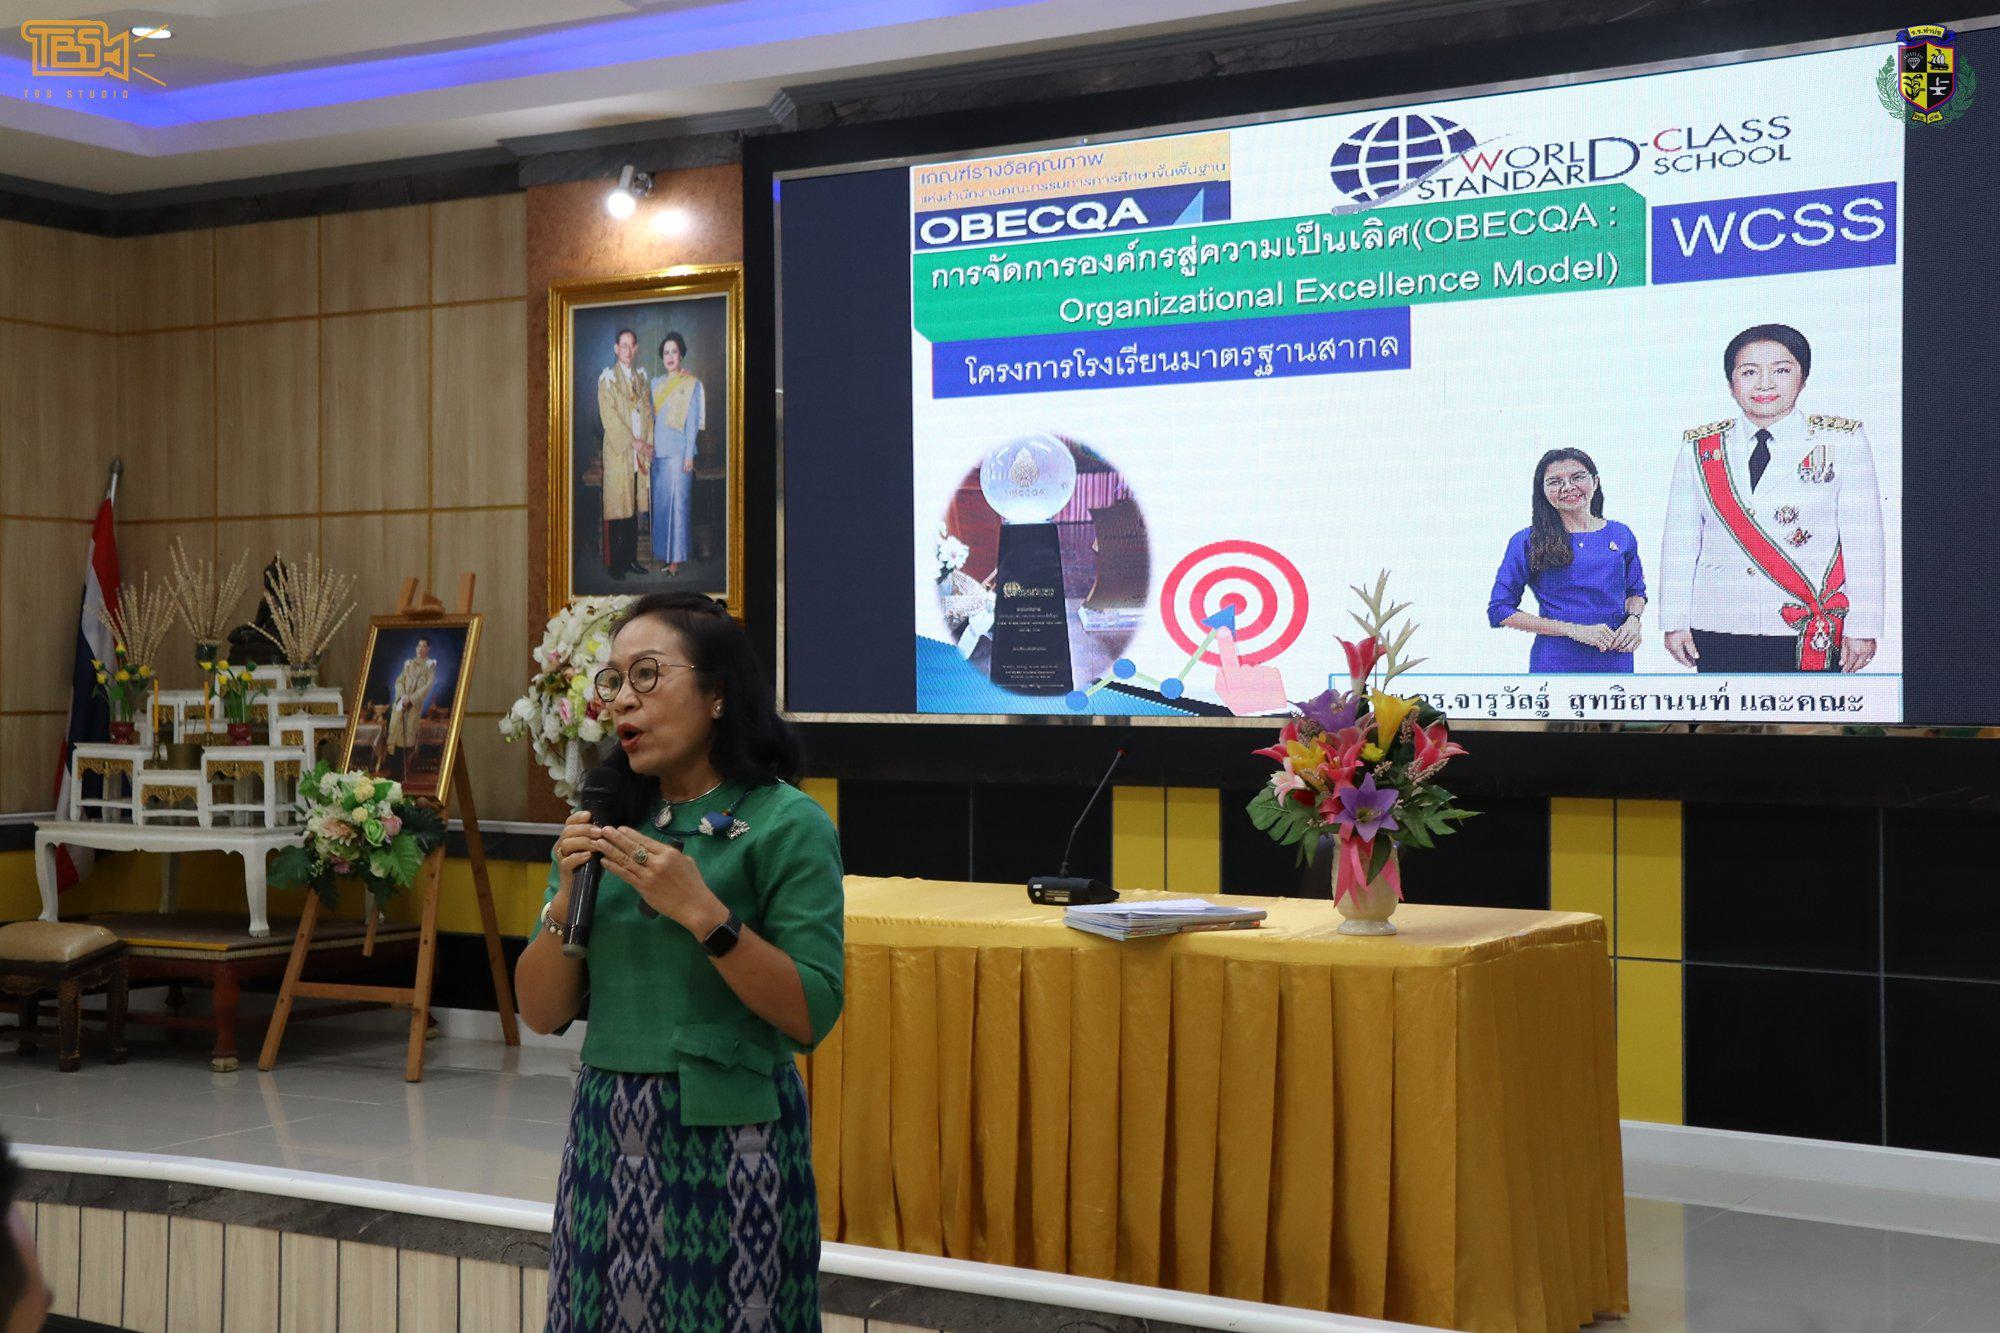text: (923, 190, 1622, 299), (1053, 245, 1624, 333), (961, 327, 1404, 388), (1662, 187, 1894, 265), (9, 4, 181, 95), (917, 192, 1149, 248), (1413, 156, 1590, 204), (1564, 689, 1865, 714), (917, 147, 1106, 187), (1646, 109, 1795, 158), (1649, 138, 1793, 179), (1460, 135, 1590, 176), (19, 83, 131, 101), (1428, 689, 1500, 711), (1065, 168, 1141, 187), (1496, 687, 1552, 713), (1161, 158, 1225, 179)
